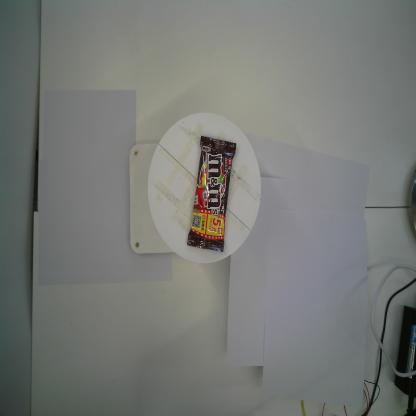Chocolate: (186, 134, 237, 254)
